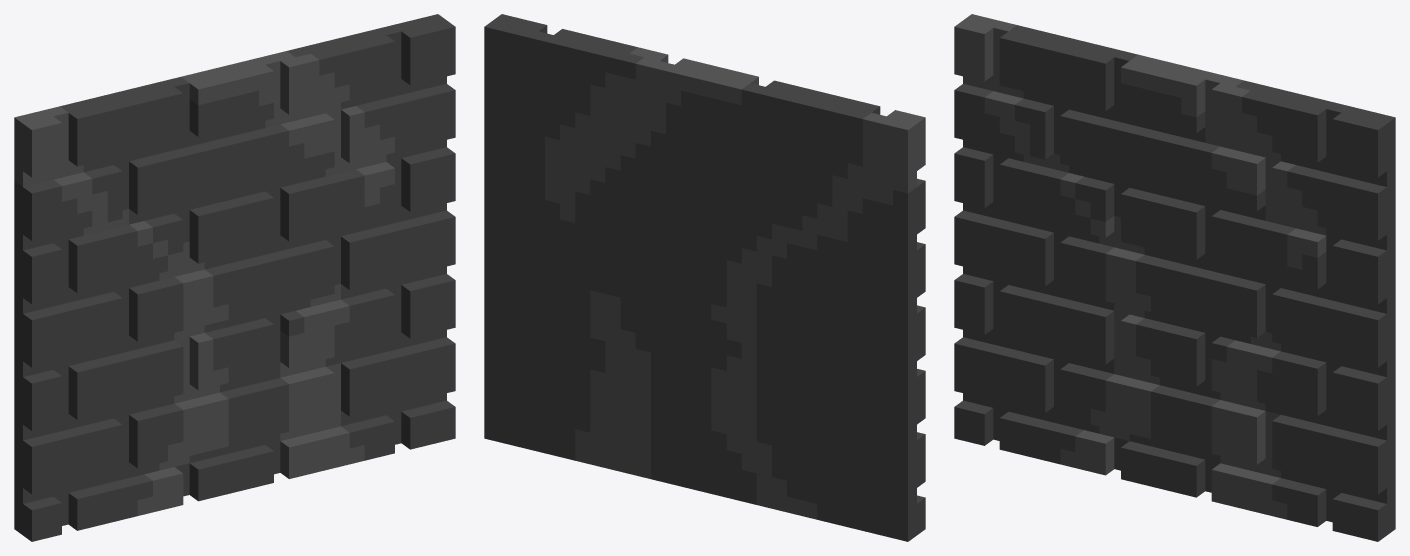
The model's file is Stenka1-36 1.obj.
3 views of the same model, side by side, from view 1: azimuth 30°, elevation 25°; view 2: azimuth 150°, elevation 25°; view 3: azimuth 330°, elevation 25° (orthographic).
Size of the model in its own units: 2.8 by 2.6 by 0.2.
Materials: 1 (1 with a texture image).
